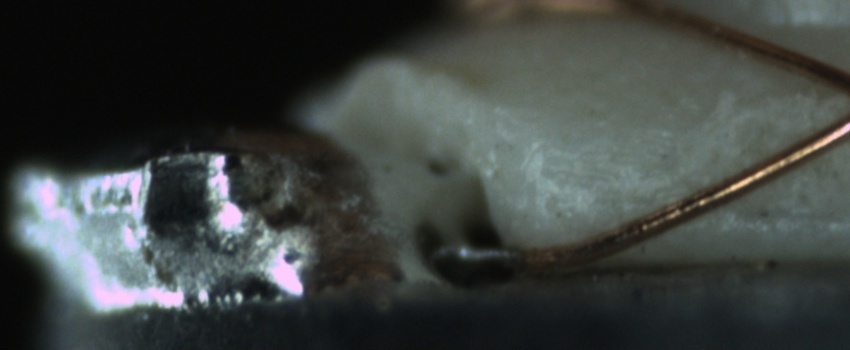TS: (423, 246, 524, 278)
